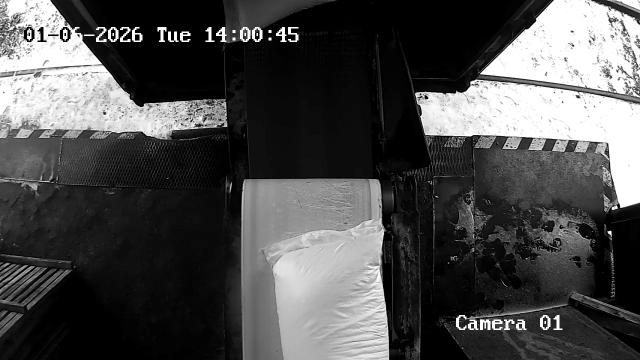bag: (264, 219, 389, 360), (226, 0, 338, 42)
